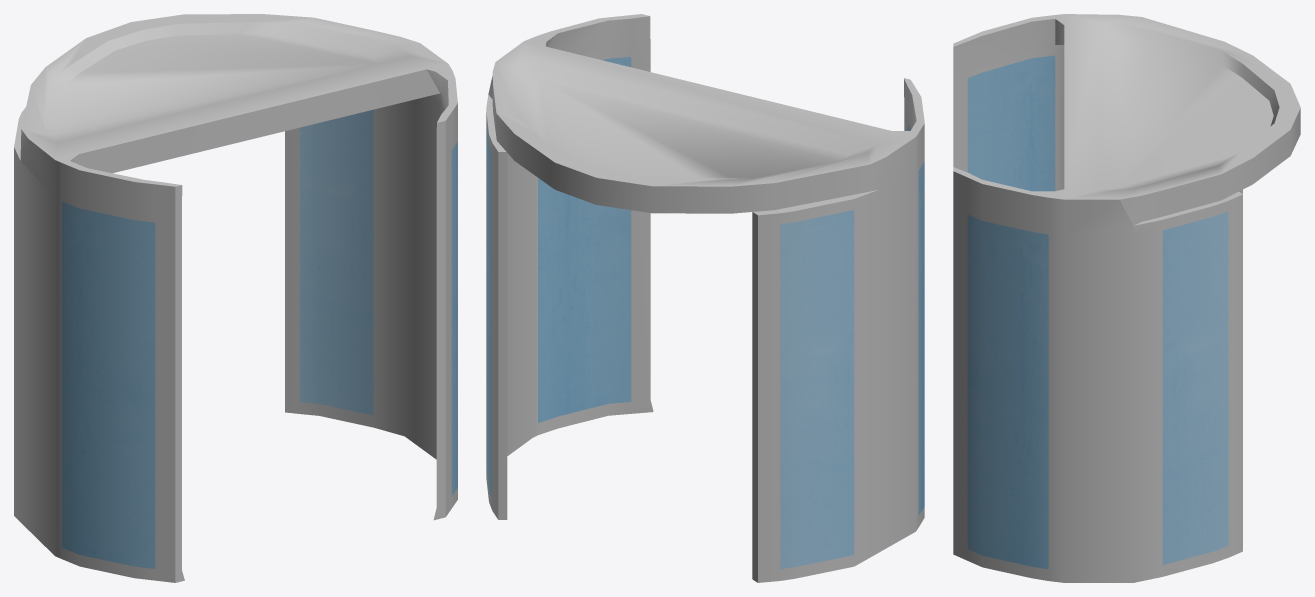
File: DoorPart01.fbx
The picture shows the model from 3 angles, left to right: view 1: azimuth 30°, elevation 25°; view 2: azimuth 150°, elevation 25°; view 3: azimuth 270°, elevation 25°; orthographic projection. The views are drawn at different scales.
Parts seen in each view (by area): view 1: Mesh (13); view 2: Mesh (13); view 3: Mesh (13).
Boxes of the visible parts, x1,y1,x2,y2 form: Mesh (13): (14,14,457,582); Mesh (13): (486,14,924,582); Mesh (13): (953,14,1300,582).
Size of the model in its own units: 303 by 292 by 240.
